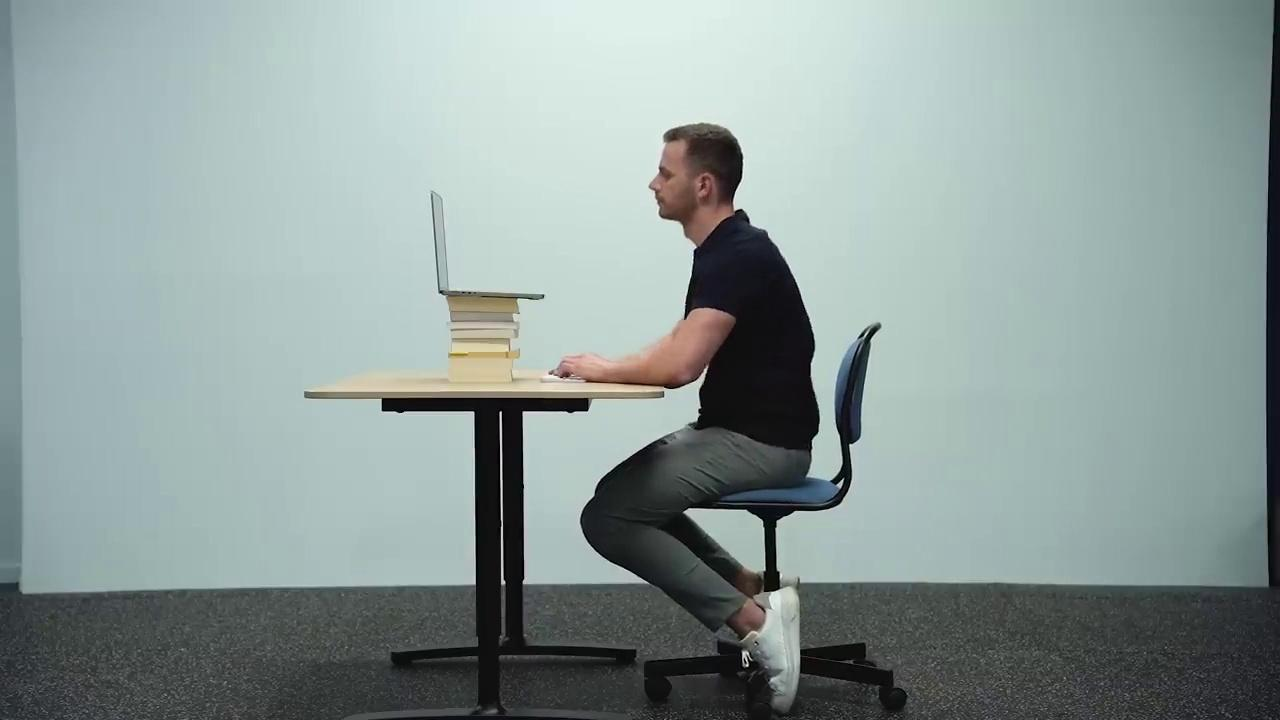GoodPosture: (581, 423, 809, 711), (553, 122, 781, 388)
